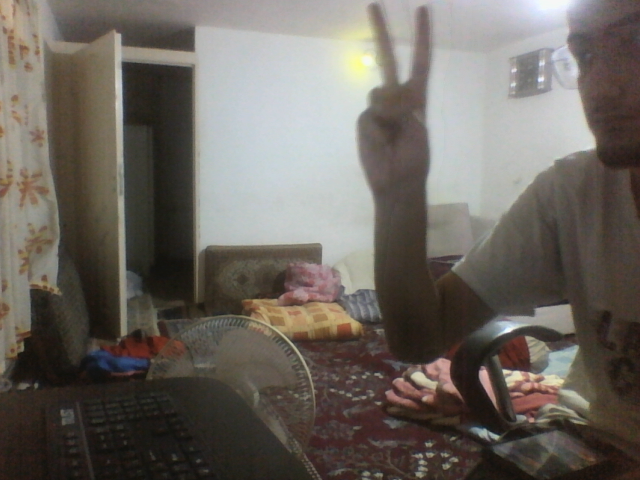Azadi: (356, 2, 435, 195)
sorat: (564, 1, 640, 167)
